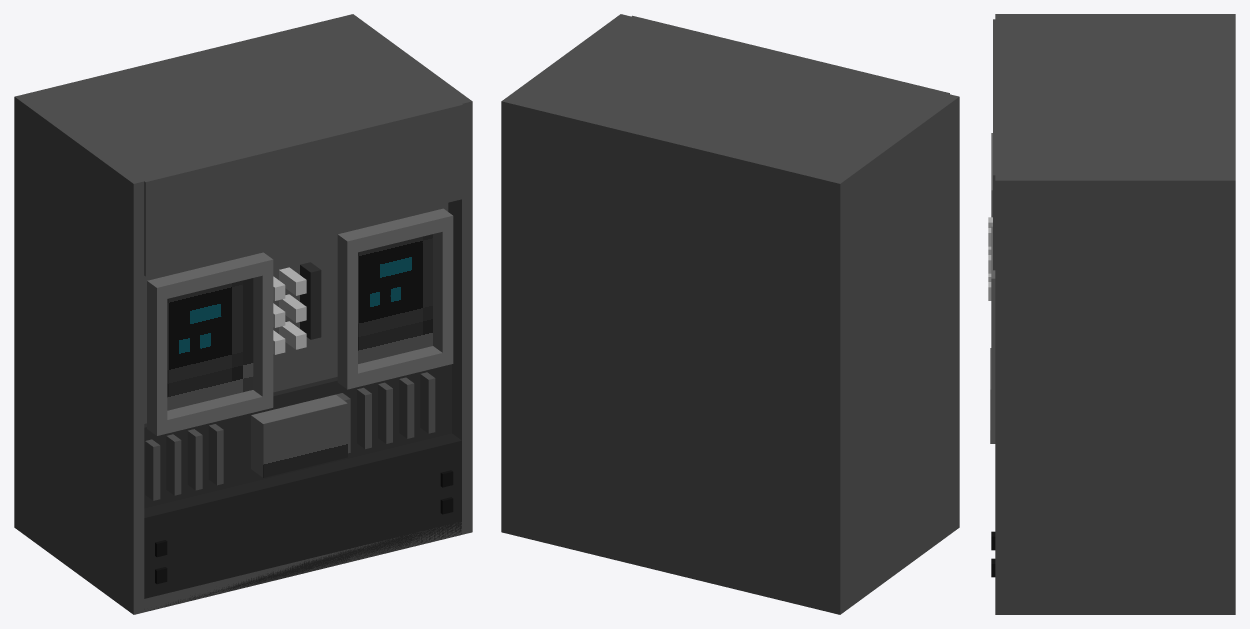
Rendered from CMU3DRMCBlackSensorComputer3InheritedMiscCloud.glb.
3 views of the same model, side by side, from view 1: azimuth 30°, elevation 25°; view 2: azimuth 150°, elevation 25°; view 3: azimuth 270°, elevation 25° (orthographic).
Visible parts, largest first — view 1: full-depth left casing, full-width raised upper hood, roof, bottom closed service casing, recessed lower ventilation backing, left scanner CRT recessed glass source detail, right scanner CRT recessed glass source detail, full-depth right casing, instrument bank rear plate, lower raised label source detail, base, left scanner CRT stepped bezel top (+18 smaller); view 2: rear cabinet wall, full-depth left casing, roof, full-depth right casing, full-width raised upper hood; view 3: full-depth right casing, roof, full-width raised upper hood, rear cabinet wall, full-depth left casing, right scanner CRT stepped bezel right.
Part boxes in pixels (x1,y1,x2,y2): full-depth left casing: (14,94,144,614); full-width raised upper hood: (117,84,462,276); roof: (32,21,460,181); bottom closed service casing: (144,433,461,610); recessed lower ventilation backing: (144,364,451,508); left scanner CRT recessed glass source detail: (167,278,253,410); right scanner CRT recessed glass source detail: (358,234,432,363); full-depth right casing: (343,14,472,534); instrument bank rear plate: (144,203,448,423); lower raised label source detail: (263,403,347,477); base: (144,522,461,611); left scanner CRT stepped bezel top: (147,252,273,301); rear cabinet wall: (512,99,835,612); full-depth left casing: (829,94,959,614); roof: (519,16,948,177); full-depth right casing: (501,14,630,534); full-width raised upper hood: (604,15,949,112); full-depth right casing: (995,175,1235,614); roof: (995,19,1225,175); full-width raised upper hood: (993,19,1050,270); rear cabinet wall: (1222,19,1235,175); full-depth left casing: (995,14,1235,19); right scanner CRT stepped bezel right: (991,292,995,414).
Size of the model in its own units: 1 by 1.22 by 0.628.
Materials: 10 (3 with a texture image).
